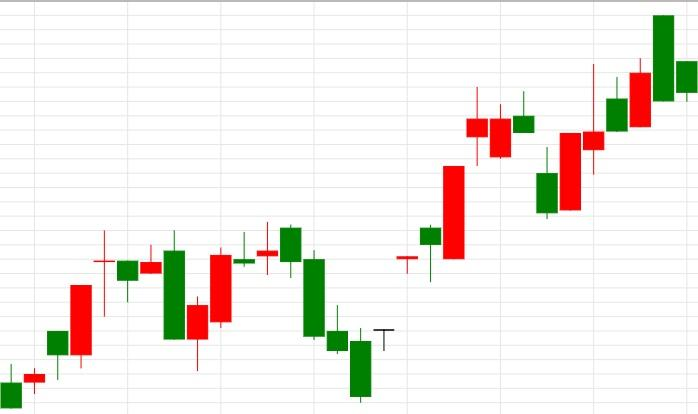bearish_engulfing_fall: (0, 230, 186, 408)
hanging_man_fall: (349, 225, 442, 404)
three_black_crows_fall: (187, 222, 349, 372)
